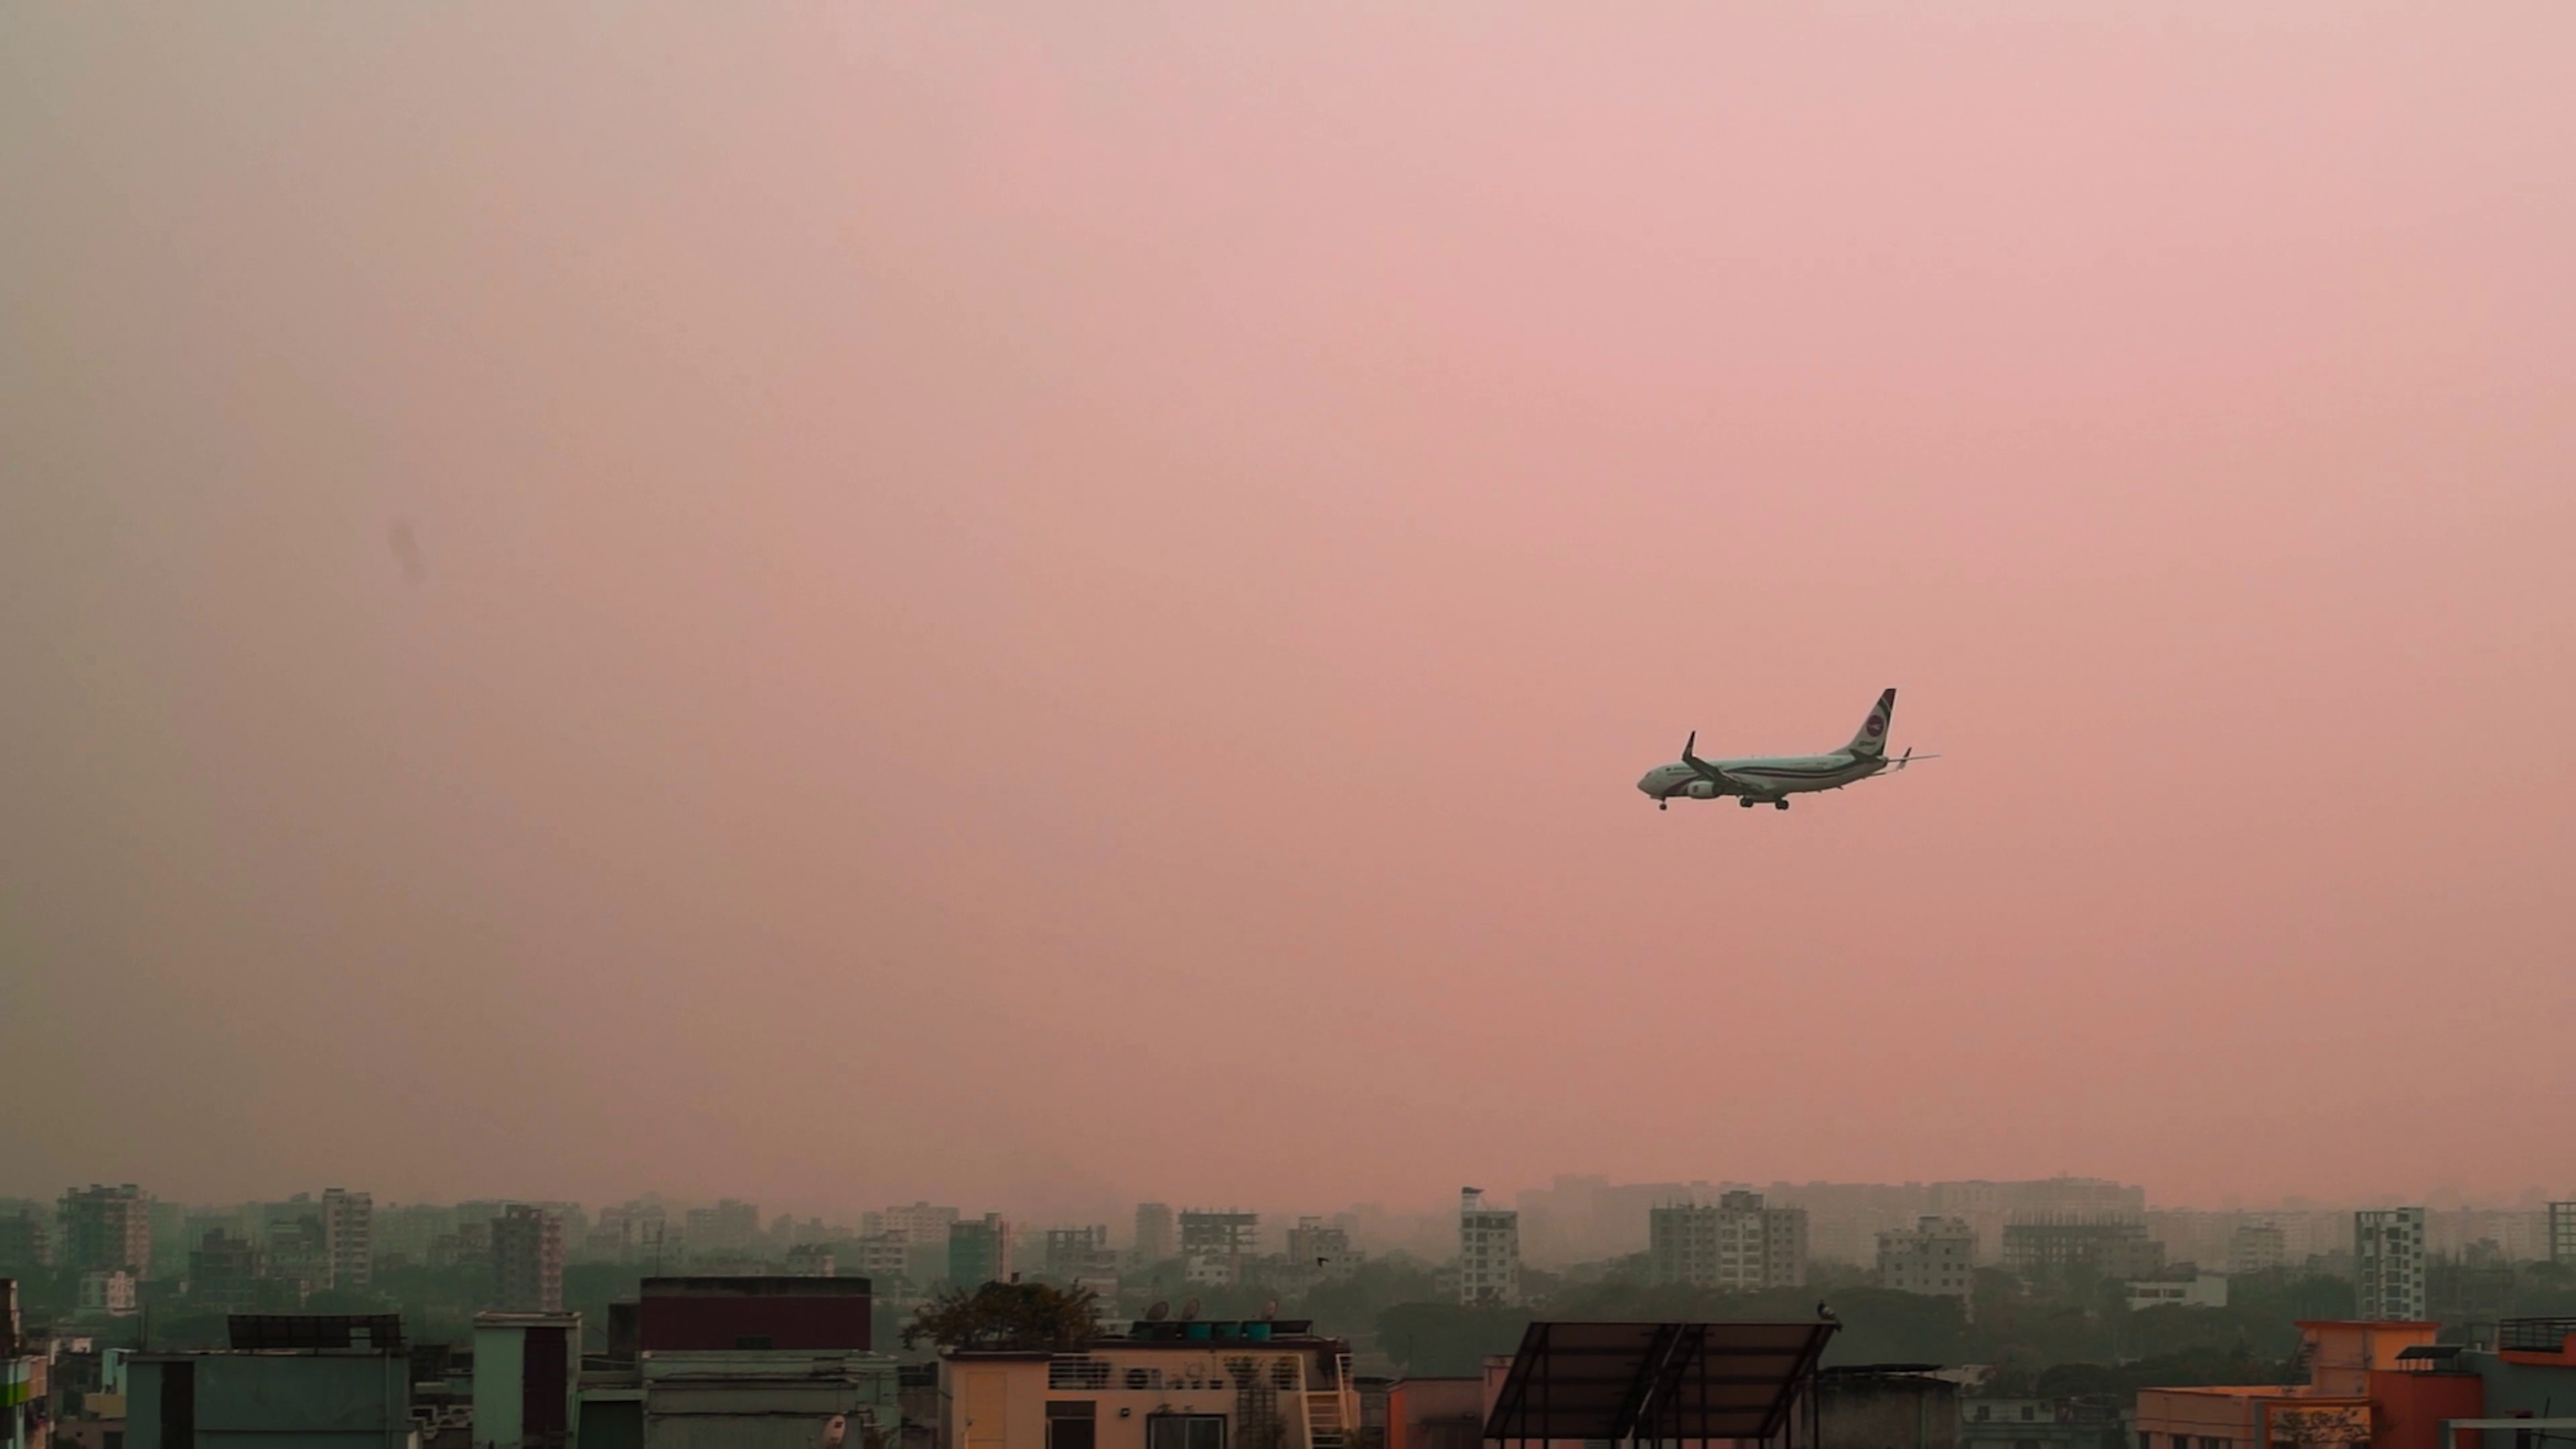plane: (1635, 688, 1936, 809)
